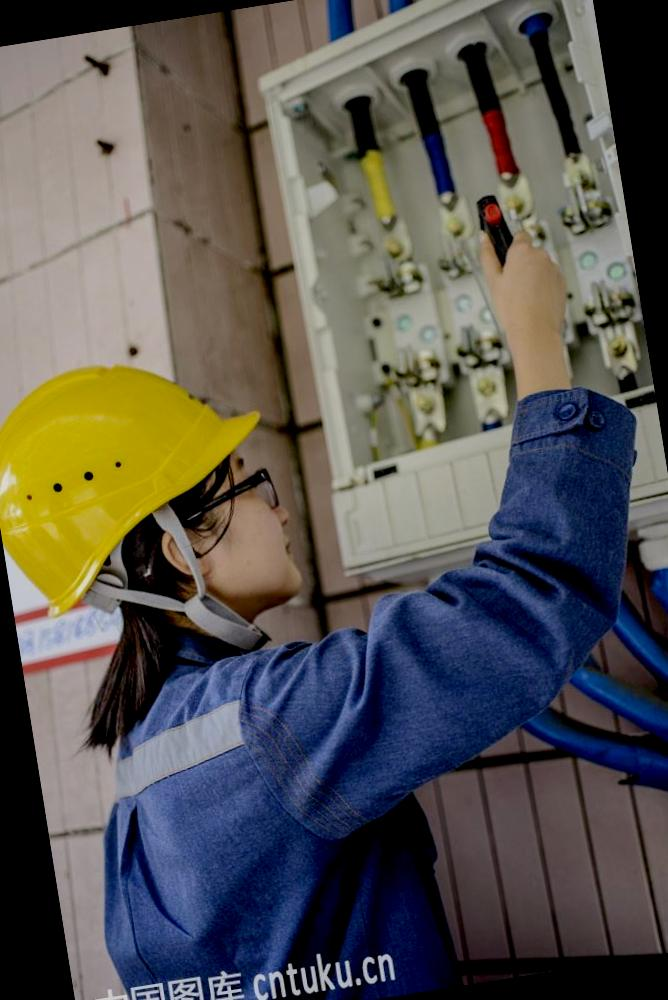helmet: (0, 337, 303, 631)
person: (0, 325, 442, 1000)
